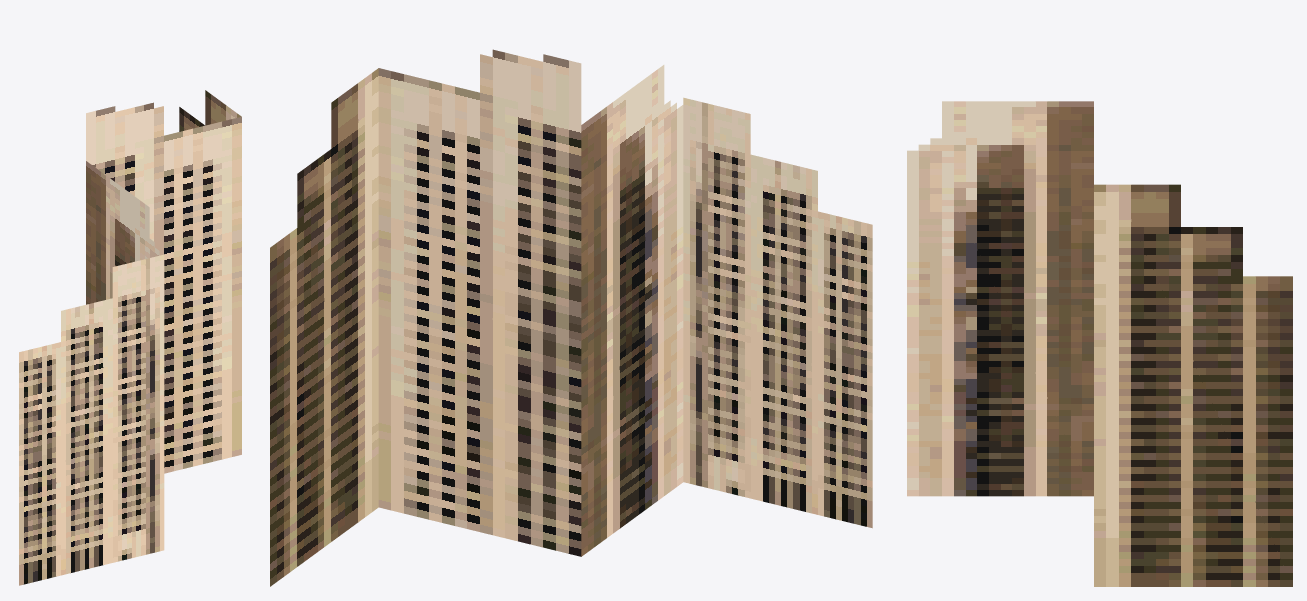
3 views of the same model, side by side, from view 1: azimuth 30°, elevation 25°; view 2: azimuth 150°, elevation 25°; view 3: azimuth 270°, elevation 25° (orthographic). The views are drawn at different scales.
Parts seen in each view (by area): view 1: obj-cy3-33; view 2: obj-cy3-33; view 3: obj-cy3-33.
Part boxes in pixels (left/top/right/bottom): obj-cy3-33: left=19, top=90, right=241, bottom=585; obj-cy3-33: left=270, top=49, right=872, bottom=586; obj-cy3-33: left=907, top=101, right=1292, bottom=586.
Size of the model in its own units: 6.02 by 7.12 by 5.52.
Materials: 4 (4 with a texture image).
